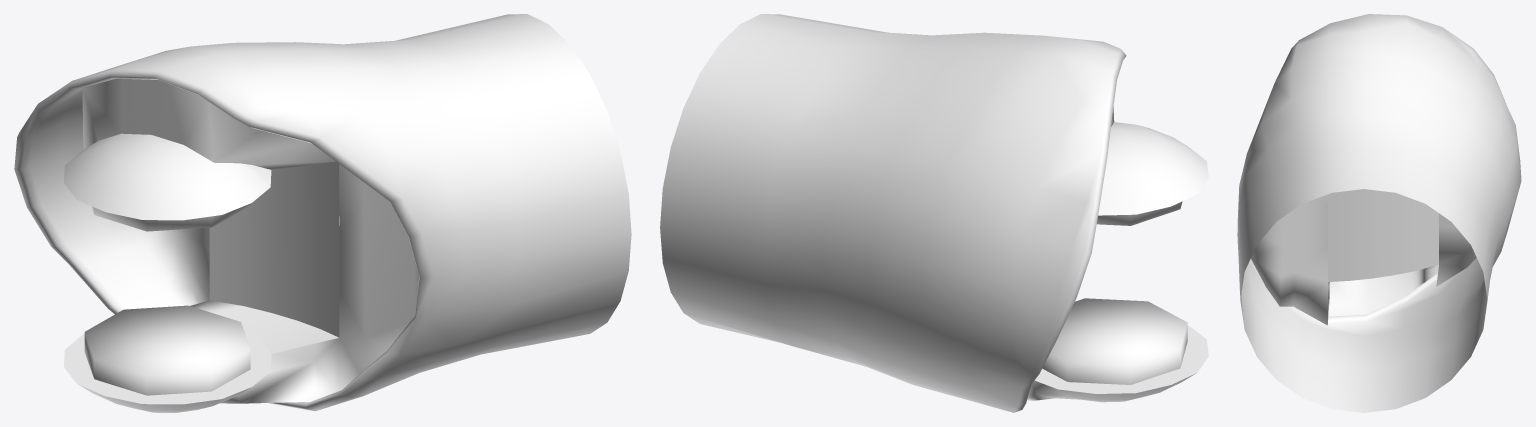
Rendered from LElbowRoll.dae.
The picture shows the model from 3 angles, left to right: view 1: azimuth 30°, elevation 25°; view 2: azimuth 150°, elevation 25°; view 3: azimuth 270°, elevation 25°; orthographic projection. The views are drawn at different scales.
Visible parts, largest first — view 1: LElbowRoll; view 2: LElbowRoll; view 3: LElbowRoll.
Boxes of the visible parts, left/top/right/bottom form: LElbowRoll: left=14, top=14, right=631, bottom=412; LElbowRoll: left=660, top=14, right=1208, bottom=412; LElbowRoll: left=1237, top=14, right=1521, bottom=412.
Bounding box in the file's own units: 0.7006 × 0.4873 × 0.5139.
Materials: 1 (1 with a texture image).
